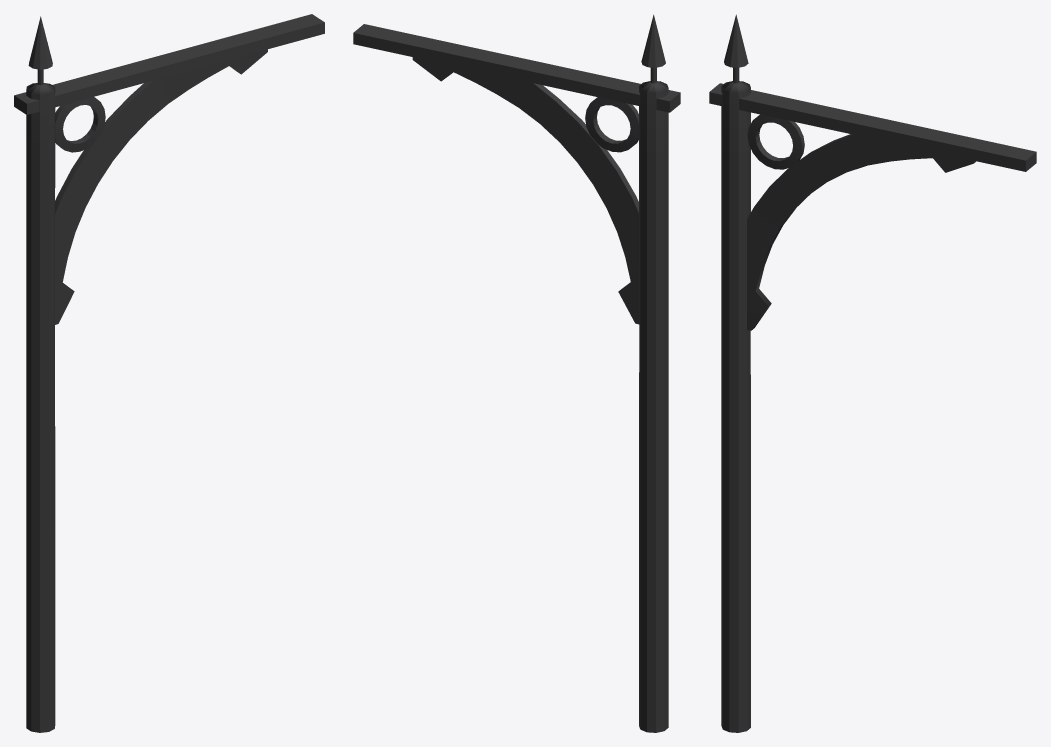
Rendered from lamp-post.obj.
The picture shows the model from 3 angles, left to right: view 1: azimuth 30°, elevation 25°; view 2: azimuth 150°, elevation 25°; view 3: azimuth 330°, elevation 25°; orthographic projection.
Parts seen in each view (by area): view 1: lamp.001_esfera1_lamp_18:pSphere7Shape_229_0.003; view 2: lamp.001_esfera1_lamp_18:pSphere7Shape_229_0.003; view 3: lamp.001_esfera1_lamp_18:pSphere7Shape_229_0.003.
Part boxes in pixels (x1,y1,x2,y2): lamp.001_esfera1_lamp_18:pSphere7Shape_229_0.003: (14, 14, 324, 732); lamp.001_esfera1_lamp_18:pSphere7Shape_229_0.003: (353, 14, 680, 732); lamp.001_esfera1_lamp_18:pSphere7Shape_229_0.003: (709, 14, 1036, 732).
Bounding box in the file's own units: 1.9 × 4.2 × 0.2322.
1 material, 1 textured.
